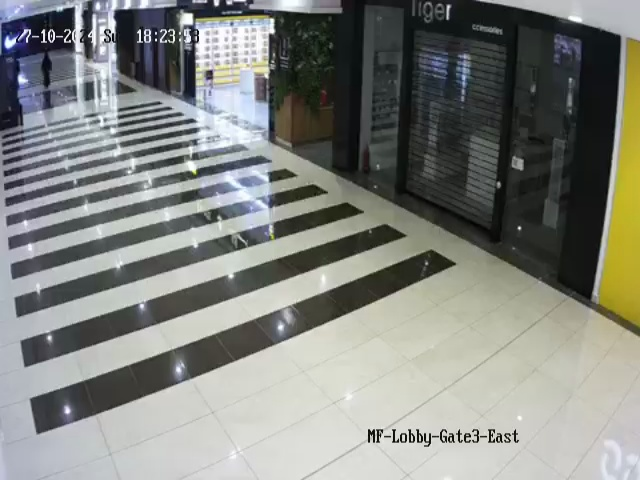female: (41, 51, 52, 88)
